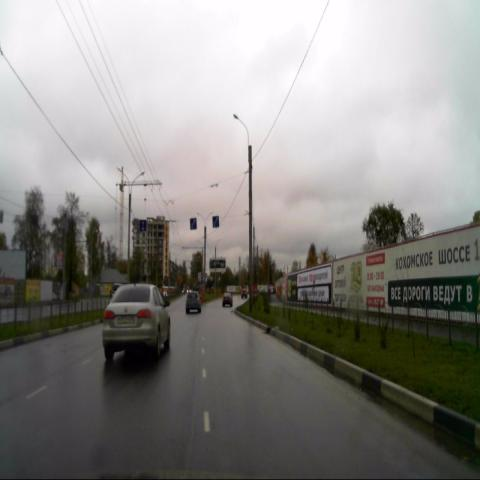5_14: (140, 219, 146, 233)
5_15_2: (212, 215, 219, 228), (190, 217, 197, 230)
